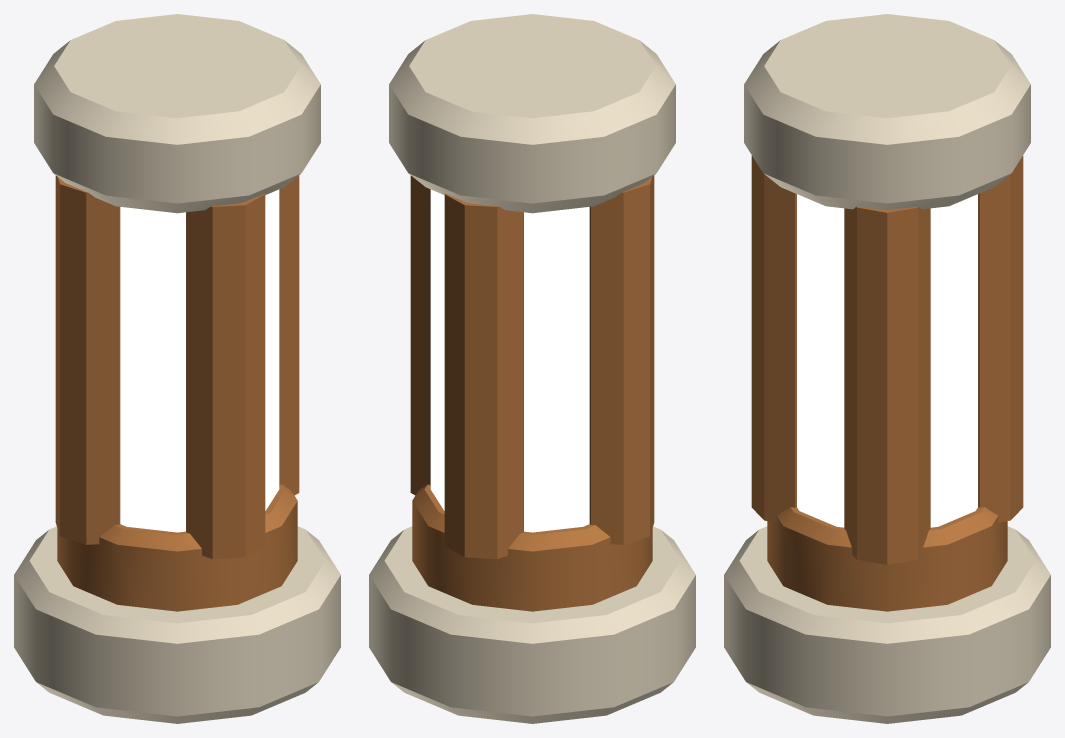
The model's file is campus-lamp.glb.
3 views of the same model, side by side, from view 1: azimuth 30°, elevation 25°; view 2: azimuth 150°, elevation 25°; view 3: azimuth 270°, elevation 25° (orthographic).
Parts seen in each view (by area): view 1: campus-lamp; view 2: campus-lamp; view 3: campus-lamp.
Boxes of the visible parts, box(x1,y1,x2,y2) form: campus-lamp: box(14, 14, 340, 723); campus-lamp: box(369, 14, 695, 723); campus-lamp: box(724, 14, 1050, 723).
Bounding box in the file's own units: 1.06 × 2.13 × 1.06.
2 materials, 1 textured.
